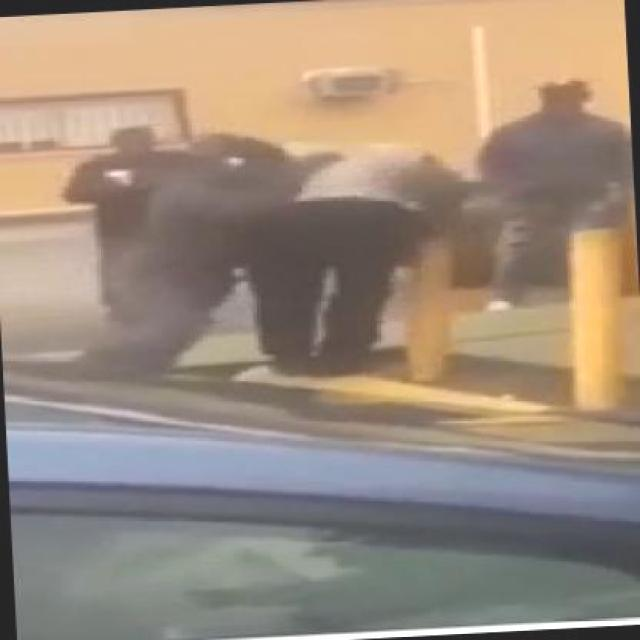fight: (87, 120, 476, 383)
non-fight: (474, 74, 636, 308)
